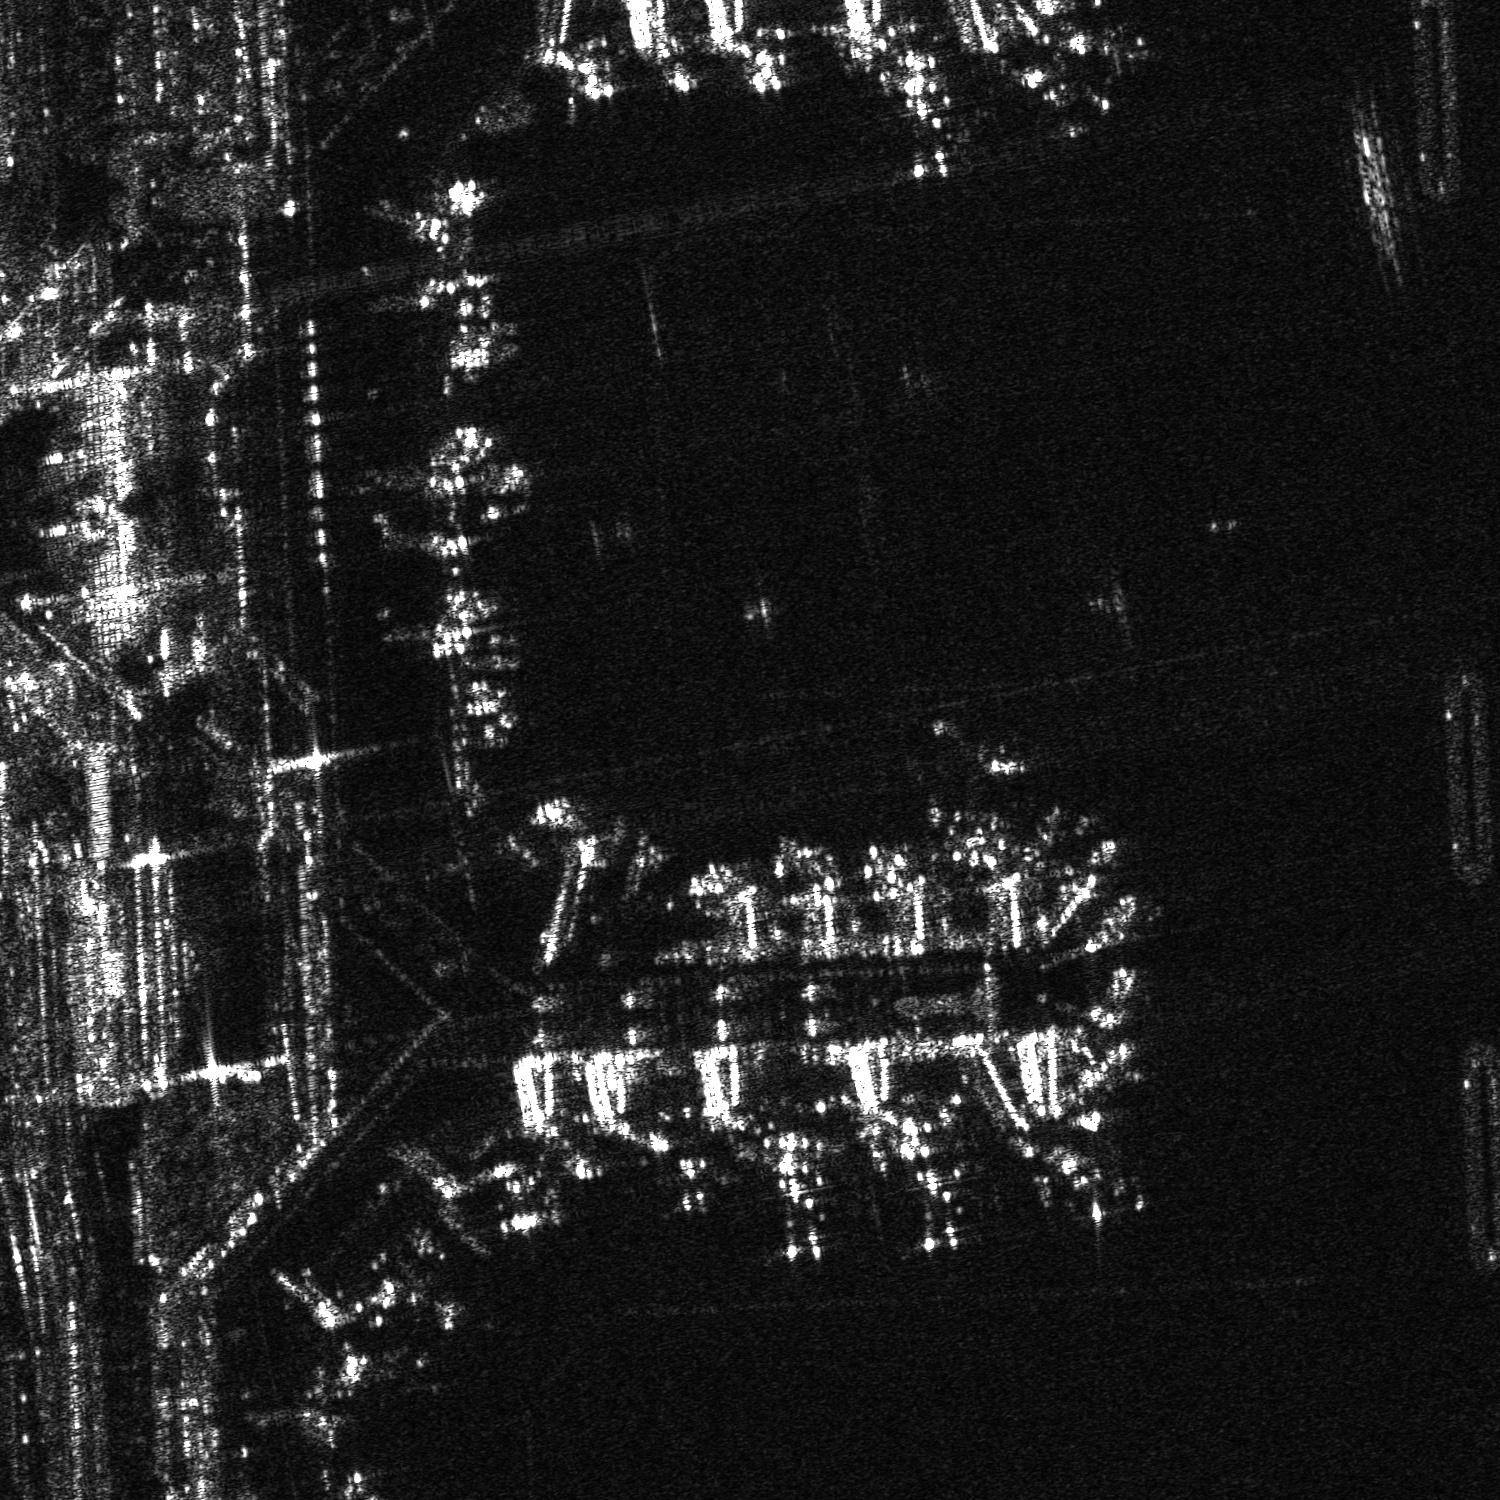A220: (924, 745, 1038, 852), (652, 1139, 749, 1221)
A320/321: (860, 70, 984, 185), (1055, 14, 1155, 85)
Boeing737: (1032, 1141, 1159, 1229), (1016, 60, 1122, 137)
Boeing787: (749, 1146, 838, 1266)
other: (883, 1137, 971, 1269)
